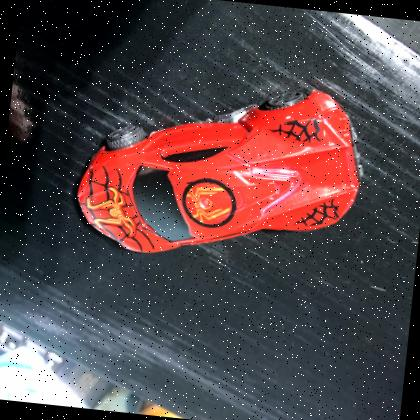Car: (66, 59, 376, 281)
